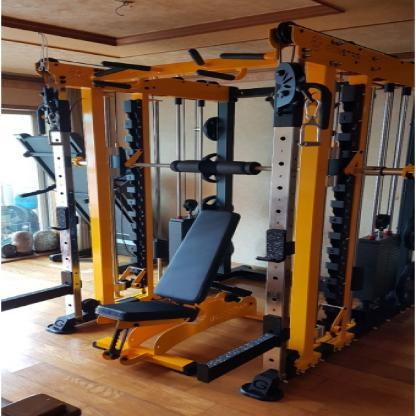smith machine: (44, 20, 416, 403)
